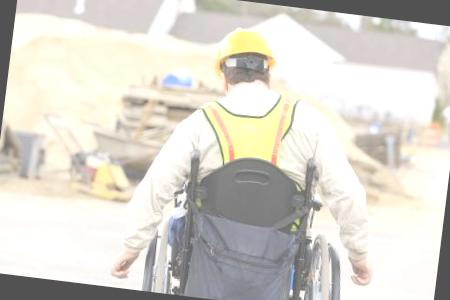person: (101, 10, 403, 300)
